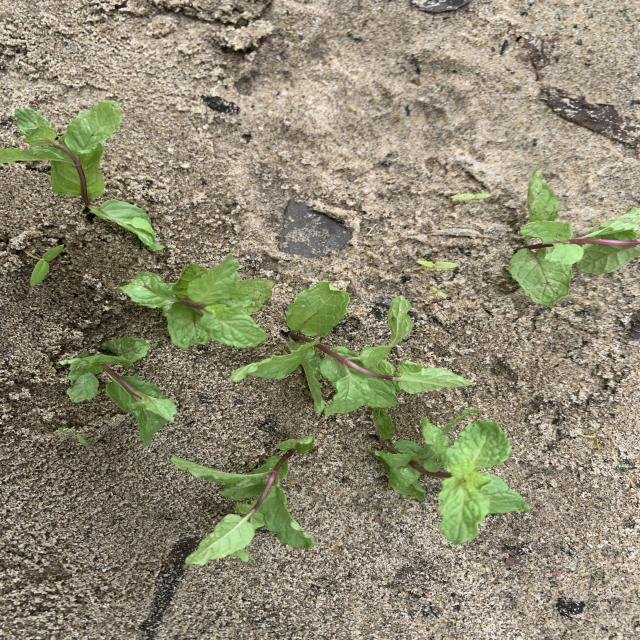crop: (286, 282, 470, 415), (0, 101, 164, 250), (375, 411, 529, 544), (171, 436, 315, 565), (510, 167, 640, 306), (119, 255, 273, 348), (61, 337, 177, 446), (232, 355, 301, 380)
weed: (26, 245, 65, 286), (54, 427, 91, 449), (416, 260, 458, 273), (449, 192, 492, 204), (579, 430, 600, 450)
